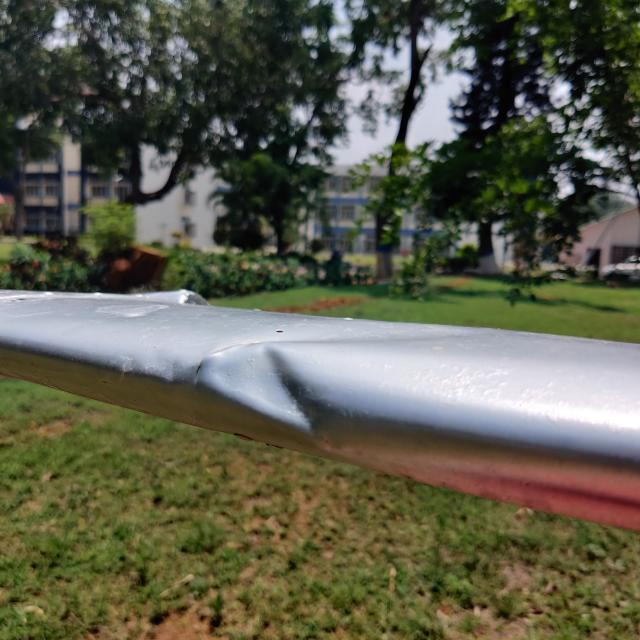crack: (187, 351, 213, 389)
dent: (206, 334, 340, 453)
